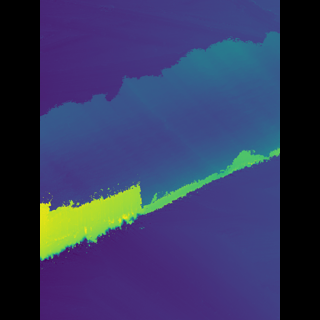Loch: (69, 27, 249, 261)
